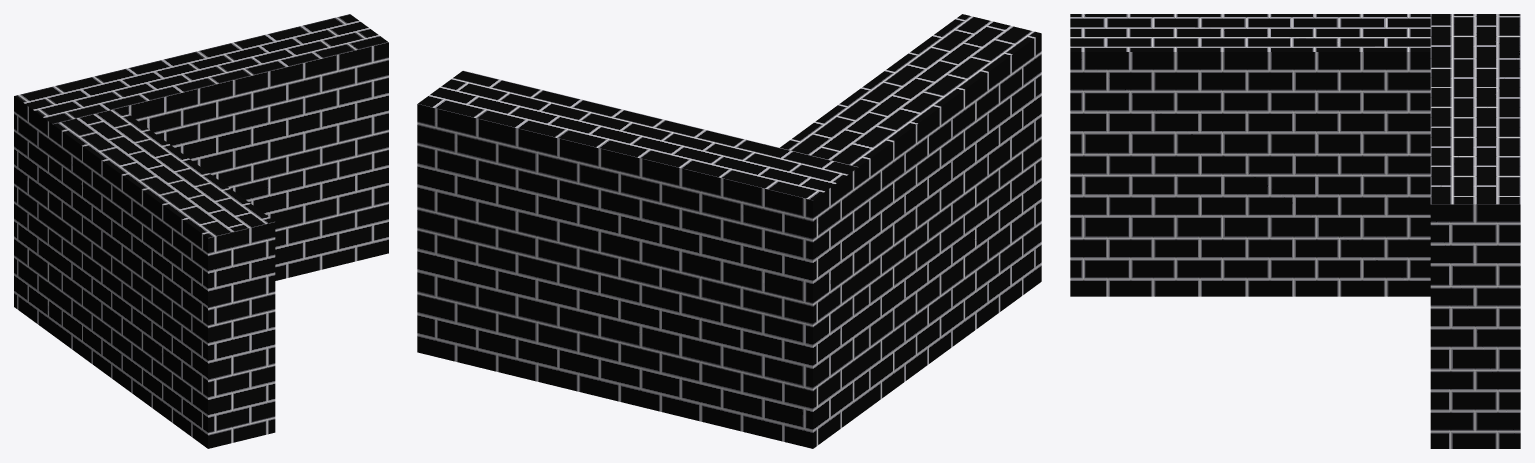
The model's file is Firewall.fbx.
3 renders of one model, left to right at view 1: azimuth 30°, elevation 25°; view 2: azimuth 150°, elevation 25°; view 3: azimuth 270°, elevation 25°, orthographic. The views are drawn at different scales.
Parts seen in each view (by area): view 1: Firewall; view 2: Firewall; view 3: Firewall.
Part boxes in pixels (bbox=[...]): Firewall: bbox=[14, 14, 388, 448]; Firewall: bbox=[417, 14, 1041, 448]; Firewall: bbox=[1070, 14, 1520, 448].
Bounding box in the file's own units: 500 × 300 × 500.
